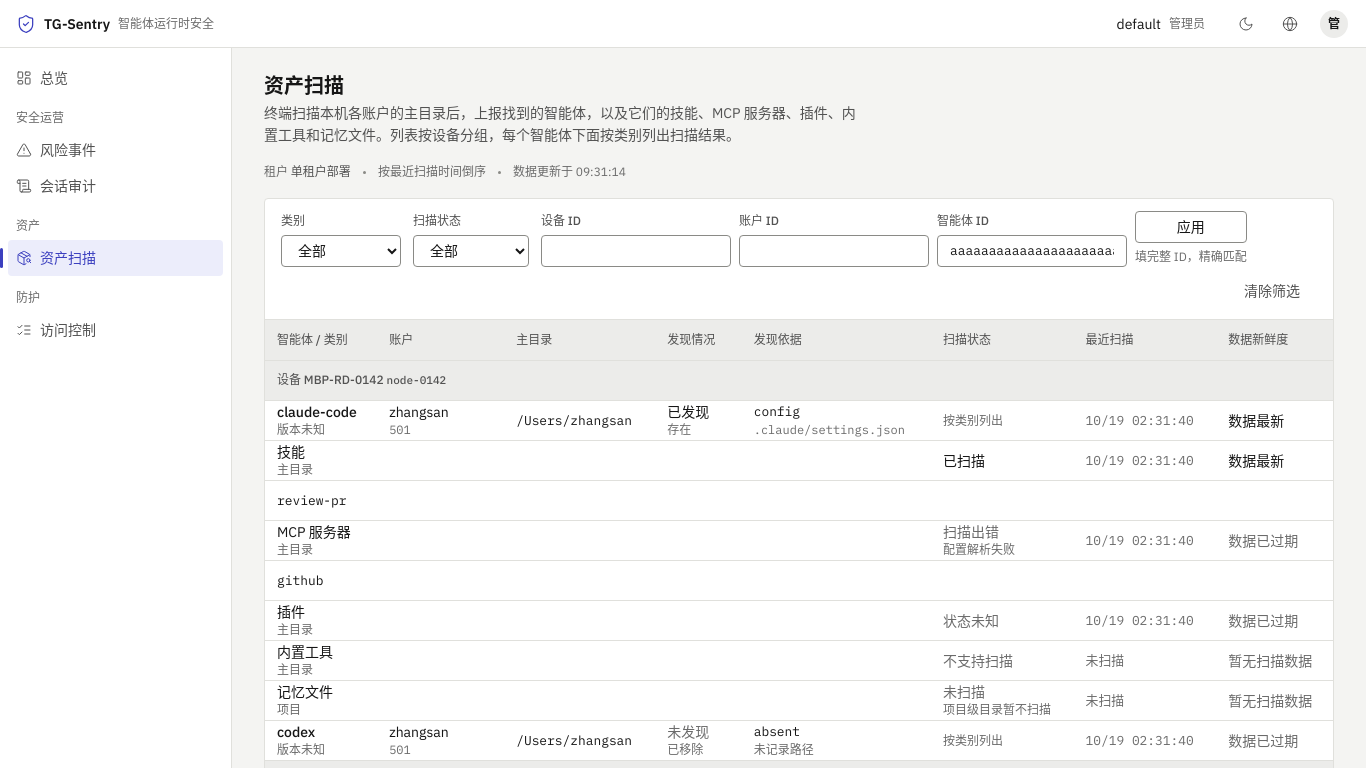
Test case: asset detail drawer › a failing reopen (404) replaces the earlier details
Click the link "review-pr".
click(312, 500)  # box [277,492,346,509]
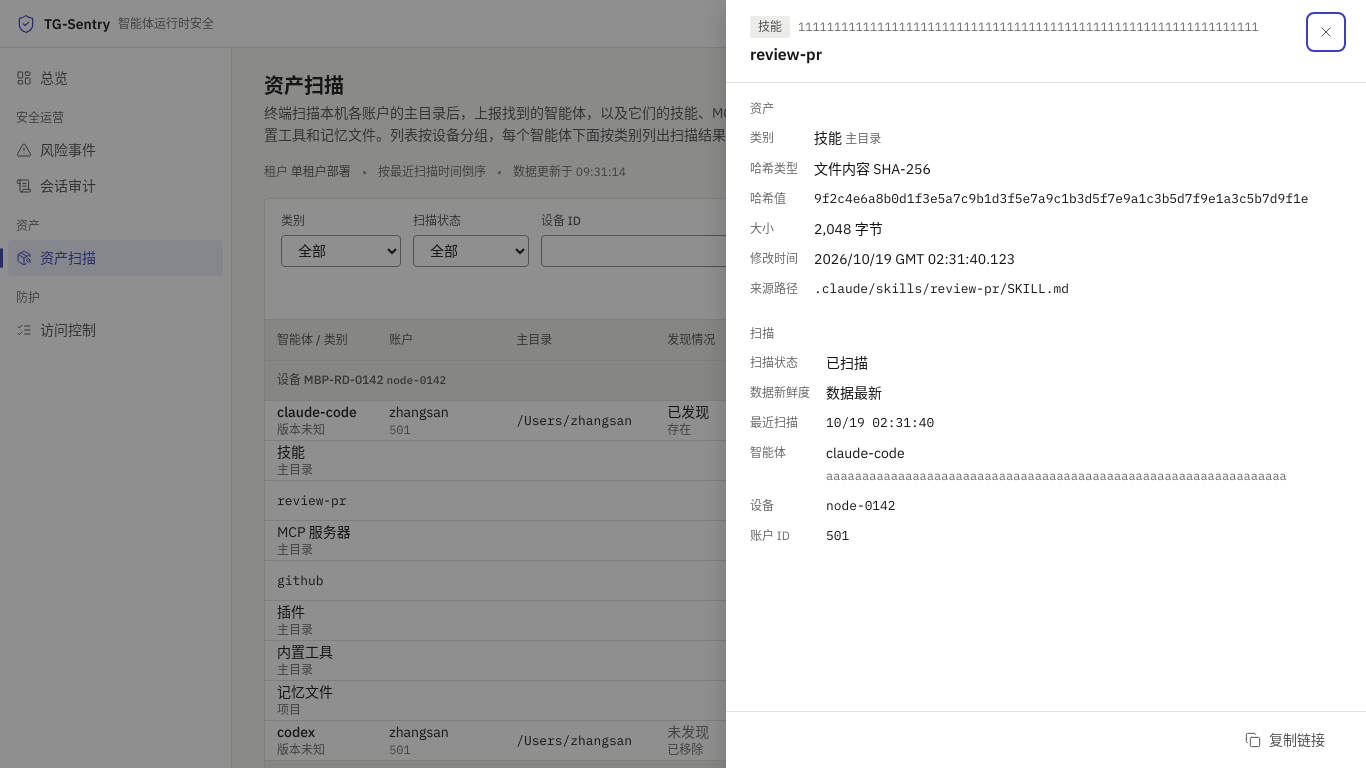
expect the text ".claude/skills/review-pr/SKILL.md" is shown: met, box [814,280,1069,297]
Press Escape
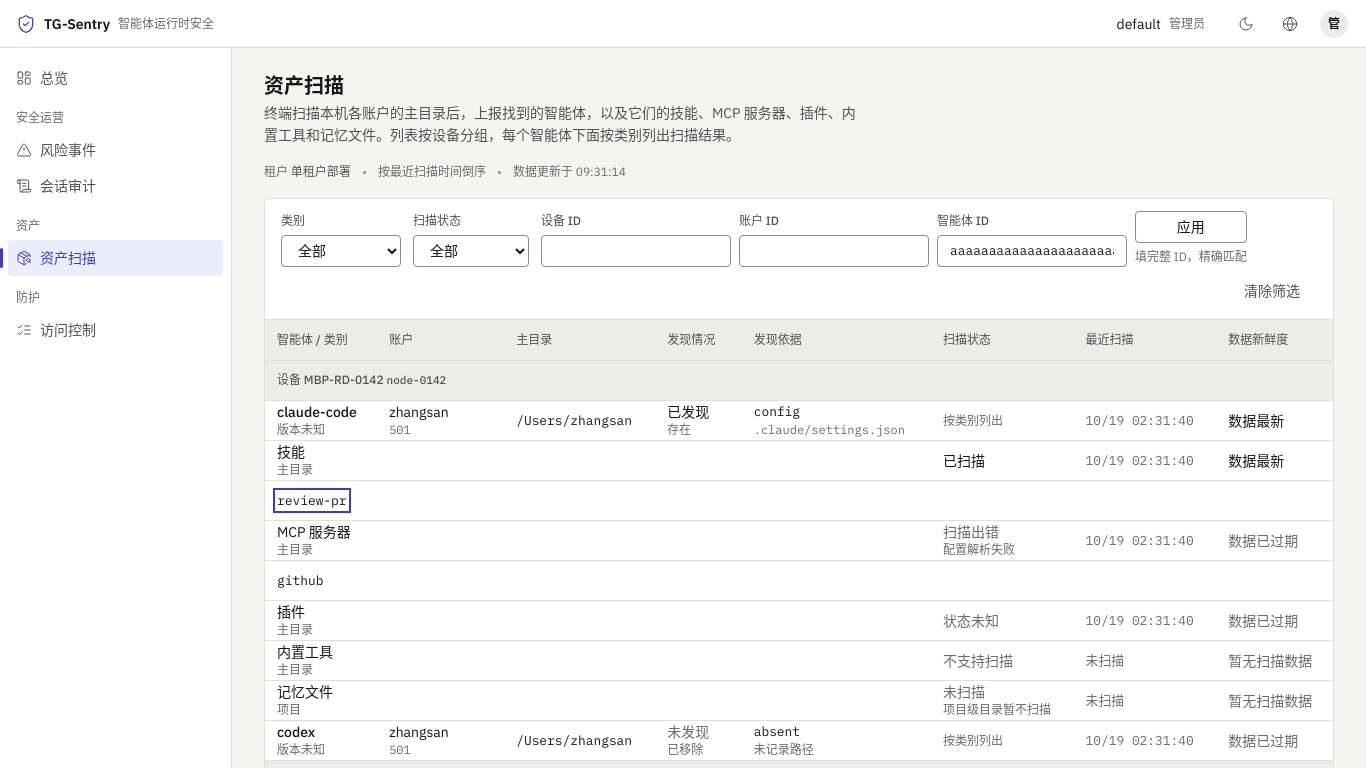
expect the dialog is gone: met
Click the link "review-pr".
click(312, 500)  # box [277,492,346,509]
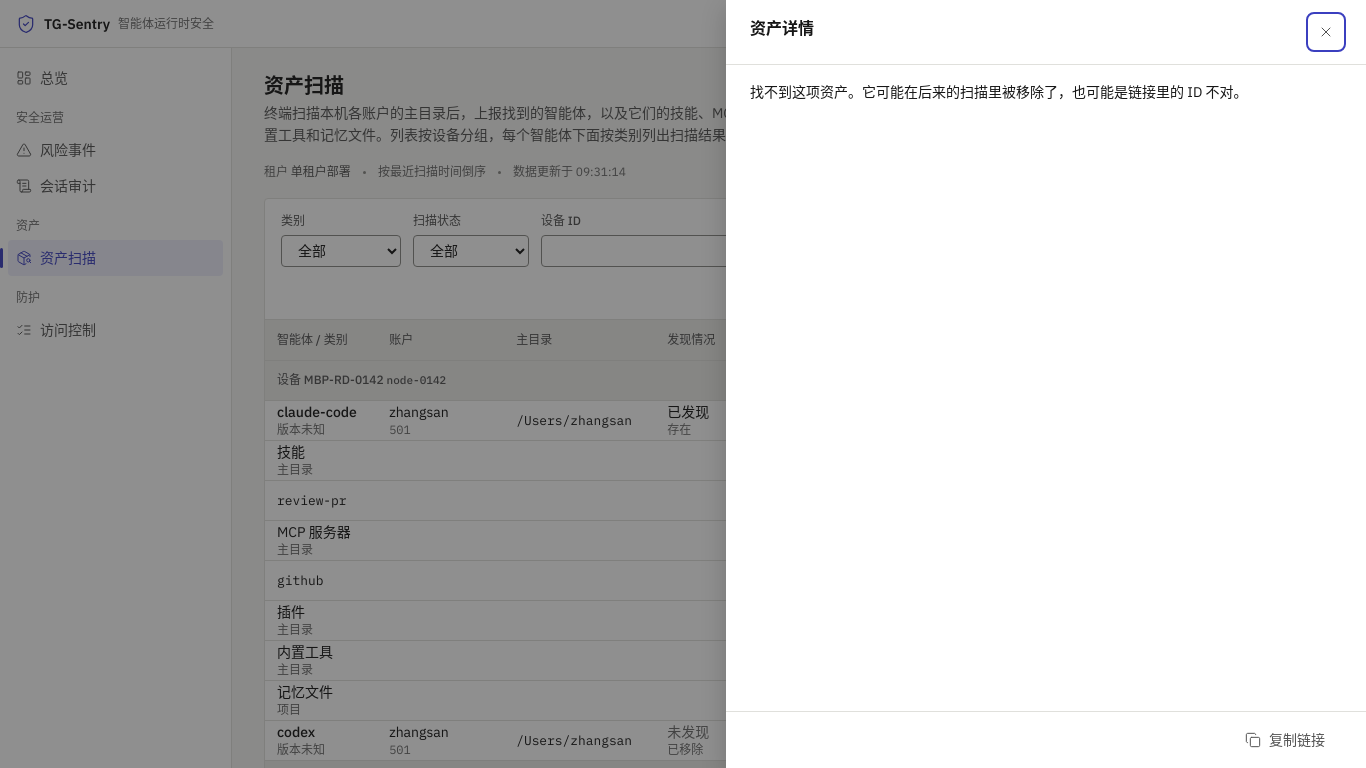
expect the dialog does not show ".claude/skills/review-pr/SKILL.md": met, box [726,0,1365,767]
expect the message shows "找不到这项资产": met, box [750,83,1248,101]
expect the heading reads "资产详情": met, box [750,18,814,38]
